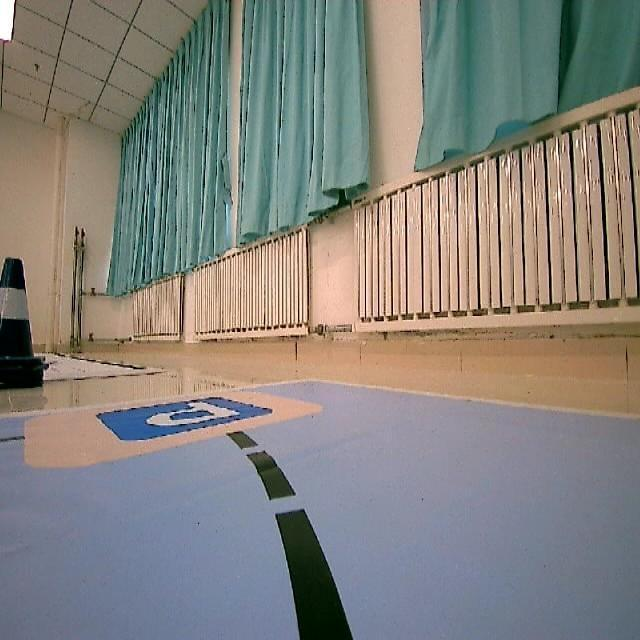obstacle: (0, 249, 53, 391)
